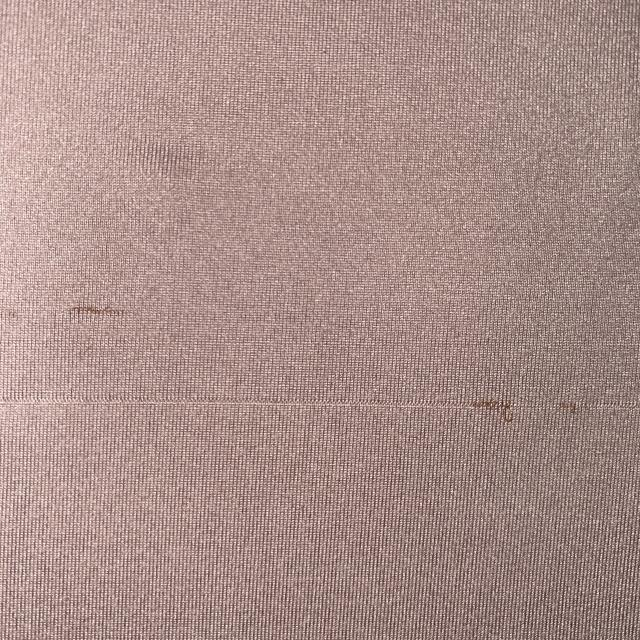Line: (0, 394, 640, 411)
Stain: (60, 304, 125, 314)
